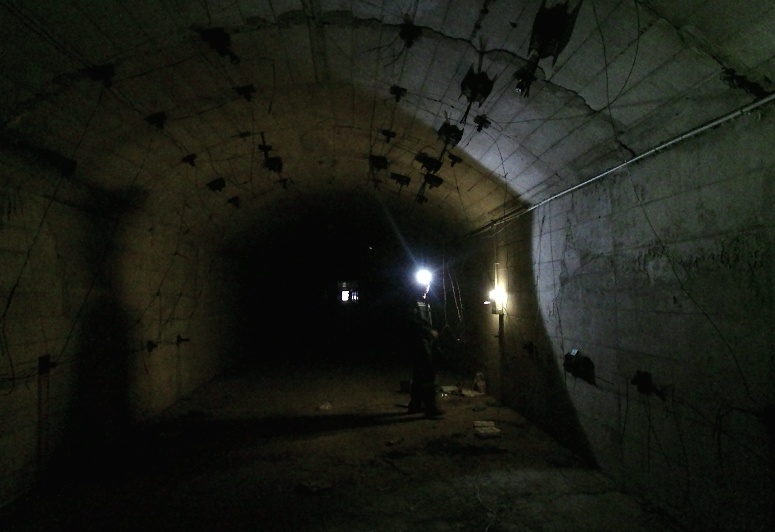person: (404, 274, 456, 418)
